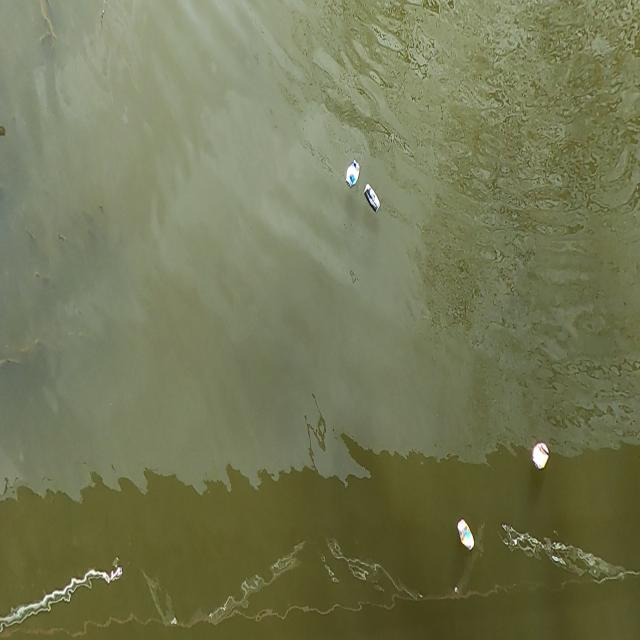Non plastique: (456, 519, 478, 555), (529, 439, 552, 473), (364, 183, 383, 213), (345, 156, 359, 194)
